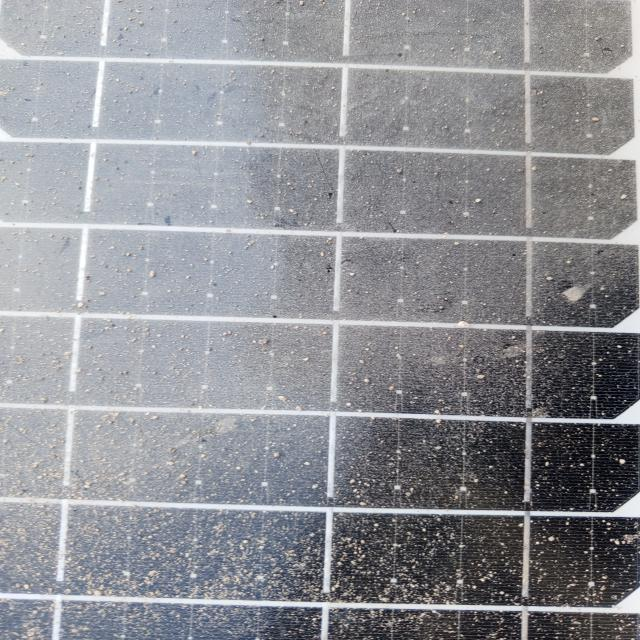Surface Contaminant: (33, 64, 639, 639)
